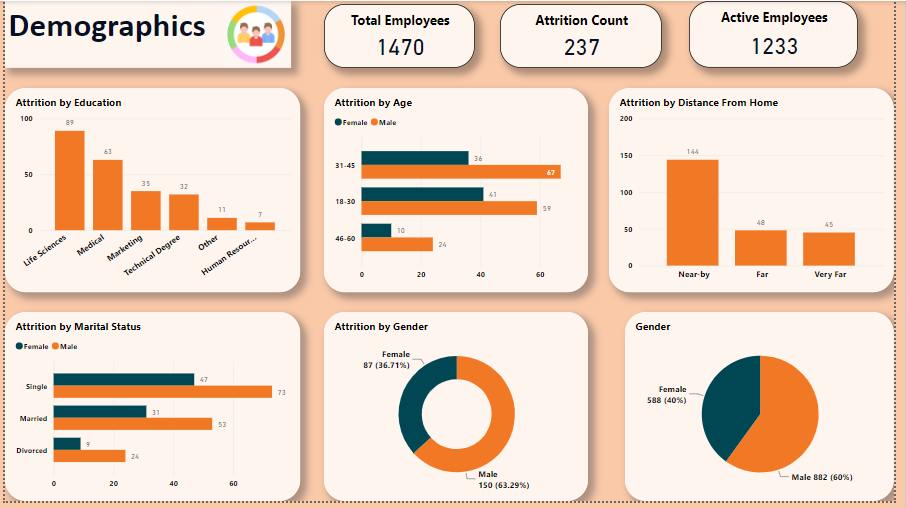

Layout of this report page (visuals, bound fields, positions):
{"tool":"powerbi","page":{"name":"demographics ","canvas":[1280,720],"ordinal":1},"visuals":[{"type":"textbox","box":[0,0,411.8,96.5],"z":0},{"type":"card","title":" Total Employees","fields":{"Values":["Sum(HR-Employee-Attrition.EmployeeCount)"]},"box":[459.4,4.3,217.4,92.2],"z":1000},{"type":"card","title":"Attrition Count","fields":{"Values":["Sum(HR-Employee-Attrition.Attrition Count)"]},"box":[712.8,4.3,233.3,92.2],"z":2000},{"type":"card","title":"Active Employees","fields":{"Values":["HR-Employee-Attrition.EmployeeCount minus Attrition Count"]},"box":[985,0,243.4,96.5],"z":3000},{"type":"clusteredBarChart","title":" Attrition by Age ","fields":{"Category":["HR-Employee-Attrition.Age (groups)"],"Y":["Sum(HR-Employee-Attrition.Attrition Count)"],"Series":["HR-Employee-Attrition.Gender"]},"box":[459.4,125.3,380.2,293.8],"z":4000},{"type":"columnChart","title":"Attrition by Distance From Home ","fields":{"Category":["HR-Employee-Attrition.DistanceFromHome (groups)"],"Y":["Sum(HR-Employee-Attrition.Attrition Count)"]},"box":[869.8,125.3,410.4,293.8],"z":5000},{"type":"donutChart","title":" Attrition by Gender","fields":{"Y":["Sum(HR-Employee-Attrition.Attrition Count)"],"Category":["HR-Employee-Attrition.Gender"]},"box":[459.4,447.8,380.2,272.2],"z":6000},{"type":"clusteredBarChart","title":" Attrition by Marital Status ","fields":{"Category":["HR-Employee-Attrition.MaritalStatus"],"Y":["Sum(HR-Employee-Attrition.Attrition Count)"],"Series":["HR-Employee-Attrition.Gender"]},"box":[0,447.8,424.8,272.2],"z":7000},{"type":"columnChart","title":" Attrition by Education","fields":{"Category":["HR-Employee-Attrition.EducationField"],"Y":["Sum(HR-Employee-Attrition.Attrition Count)"]},"box":[0,125.3,424.8,293.8],"z":8000},{"type":"image","box":[312.5,0,97.9,96.5],"z":9000},{"type":"pieChart","title":" Gender ","fields":{"Category":["HR-Employee-Attrition.Gender"],"Y":["CountNonNull(HR-Employee-Attrition.Gender)"]},"box":[892.8,447.8,387.4,272.2],"z":10000}]}

Visuals, with their boxes in screenshot pixels (x1, y1, x2, y2), scaled from the page's 1280x720 canvas onto the 906x508 screenshot:
textbox: (0,0,291,68)
" Total Employees" card: (325,3,479,68)
"Attrition Count" card: (505,3,670,68)
"Active Employees" card: (697,0,869,68)
" Attrition by Age " clusteredBarChart: (325,88,594,296)
"Attrition by Distance From Home " columnChart: (616,88,905,296)
" Attrition by Gender" donutChart: (325,316,594,507)
" Attrition by Marital Status " clusteredBarChart: (0,316,301,507)
" Attrition by Education" columnChart: (0,88,301,296)
image: (221,0,290,68)
" Gender " pieChart: (632,316,905,507)
